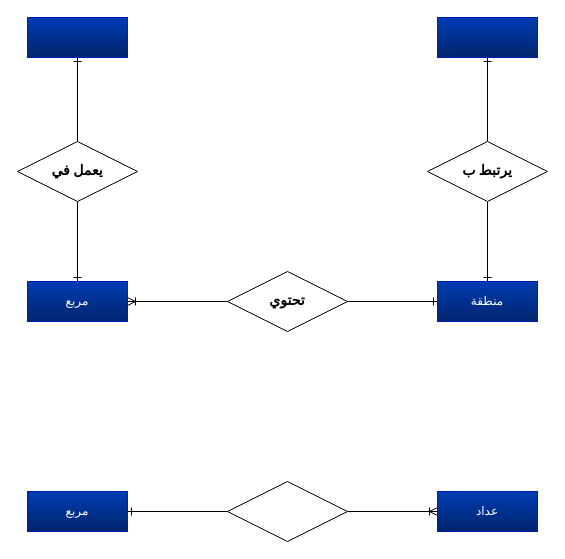
The diagram is 565 pixels wide and 559 high, and some of its shapes have lost their labels. The shapes that lost their labels are listed below. From the top down, each one's centre as x and y in pixels, then its label:
(x=77, y=37): محصل
(x=487, y=37): العداد المركزي
(x=287, y=511): يتبع
